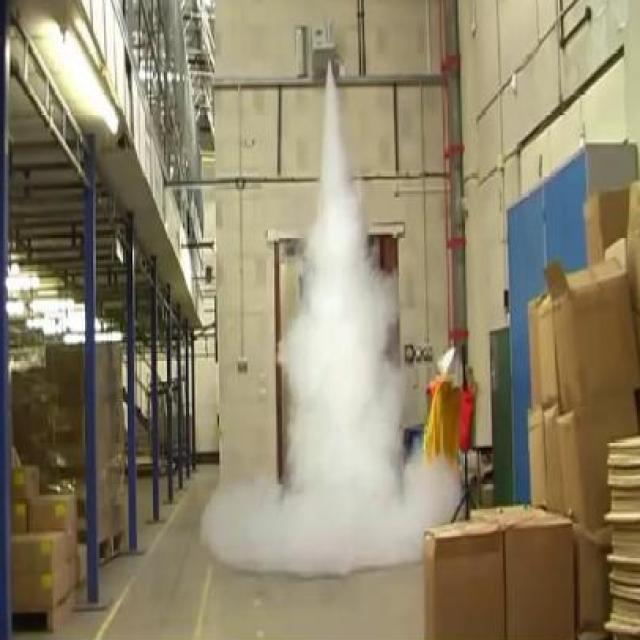fire: (275, 76, 406, 474), (198, 453, 469, 583)
